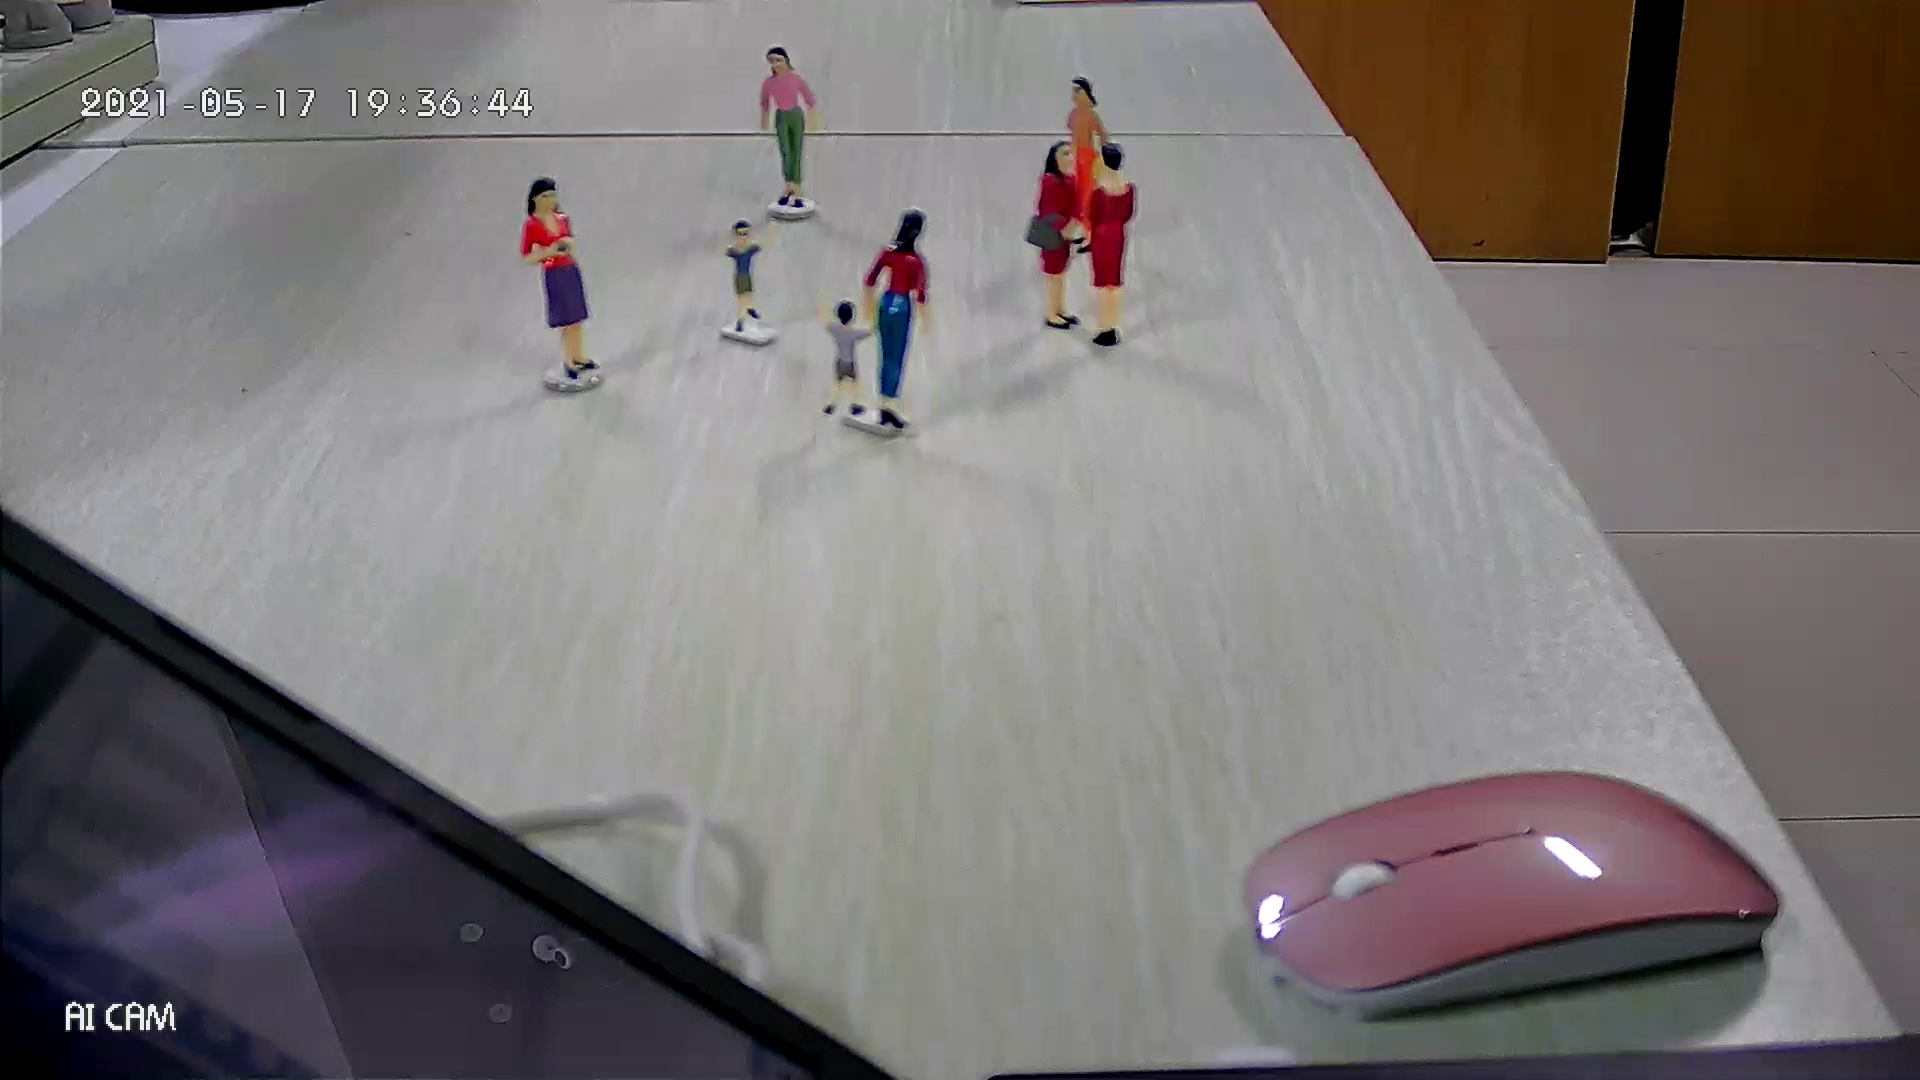person: (860, 206, 936, 432), (515, 175, 599, 380), (1021, 138, 1088, 332), (1085, 141, 1137, 349), (758, 44, 822, 209), (810, 288, 878, 419), (1065, 71, 1113, 255), (704, 218, 773, 331)
